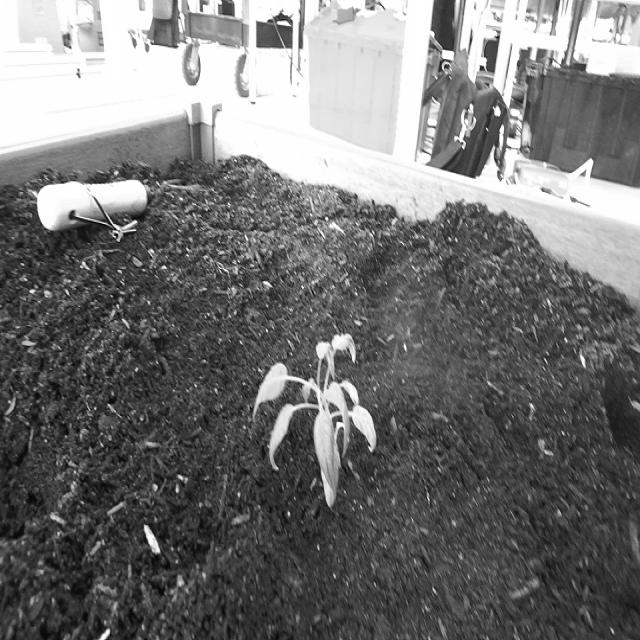Healthy: (249, 327, 382, 516)
